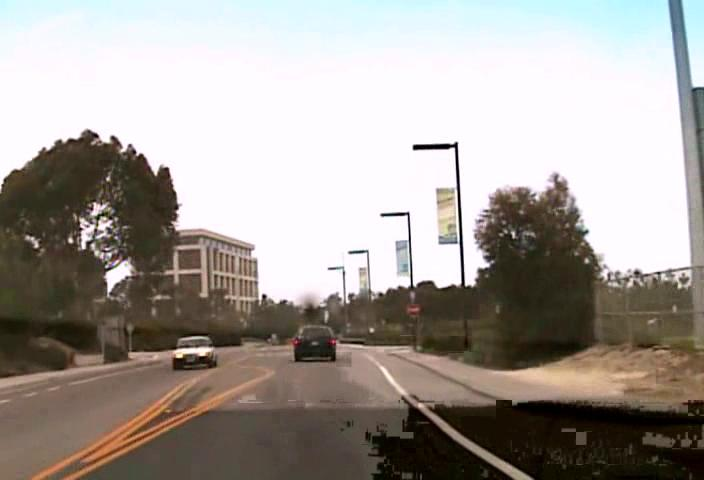stop: (405, 302, 420, 317)
